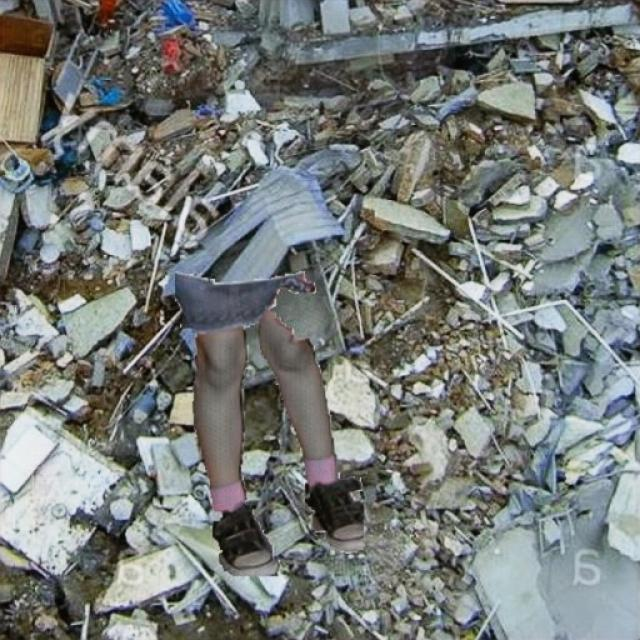Person in Rubble: (175, 271, 363, 575)
